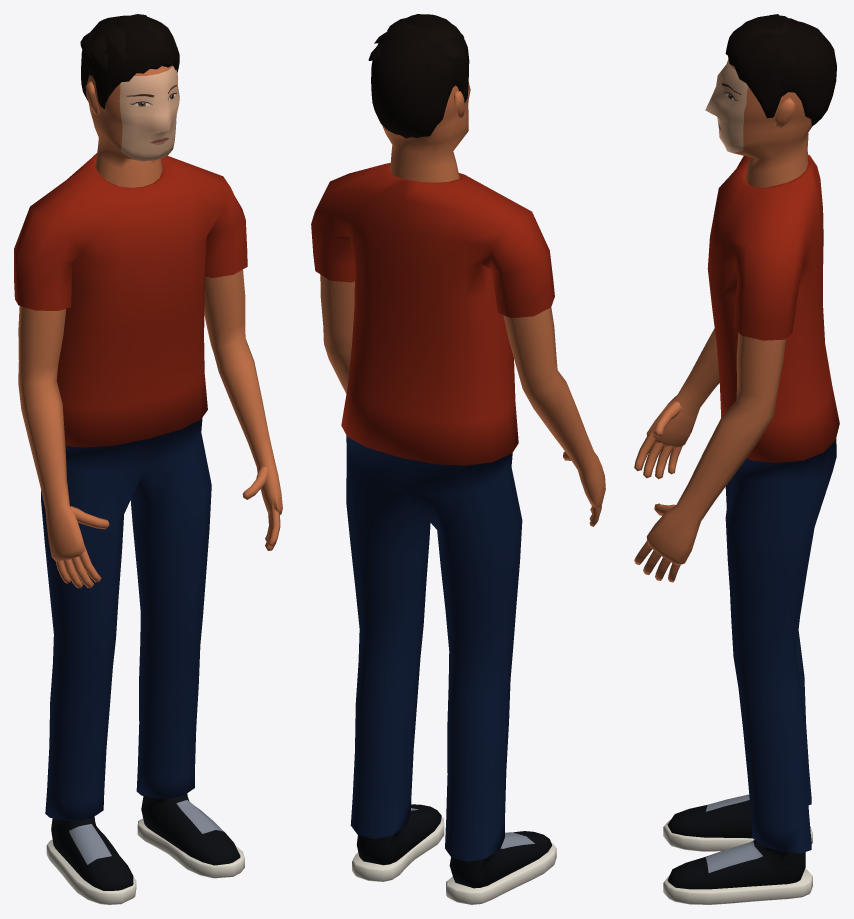
File: human_lowpoly.obj
3 views of the same model, side by side, from view 1: azimuth 30°, elevation 25°; view 2: azimuth 150°, elevation 25°; view 3: azimuth 270°, elevation 25° (orthographic). The views are drawn at different scales.
Parts seen in each view (by area): view 1: Human_Body, Human_Hair; view 2: Human_Body, Human_Hair; view 3: Human_Body, Human_Hair.
Part boxes in pixels (x1=…): Human_Body: x1=14, y1=65, x2=282, y2=904; Human_Hair: x1=80, y1=14, x2=179, y2=108; Human_Body: x1=311, y1=82, x2=605, y2=904; Human_Hair: x1=368, y1=14, x2=469, y2=138; Human_Body: x1=634, y1=59, x2=839, y2=904; Human_Hair: x1=725, y1=14, x2=836, y2=126.
Size of the model in its own units: 0.5309 by 1.8 by 0.3925.
